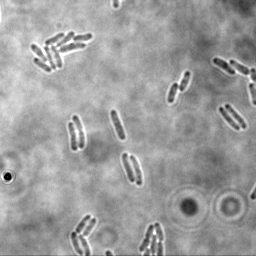Dividing: (109, 109, 127, 141), (128, 155, 144, 186), (71, 115, 85, 150)
Microcolony: (30, 31, 93, 73), (70, 213, 99, 255), (138, 221, 164, 255)
Rod: (223, 101, 248, 130), (217, 106, 241, 131), (119, 152, 136, 185), (211, 55, 236, 76), (230, 58, 251, 76), (67, 121, 79, 152), (177, 70, 193, 93), (166, 82, 180, 104)
